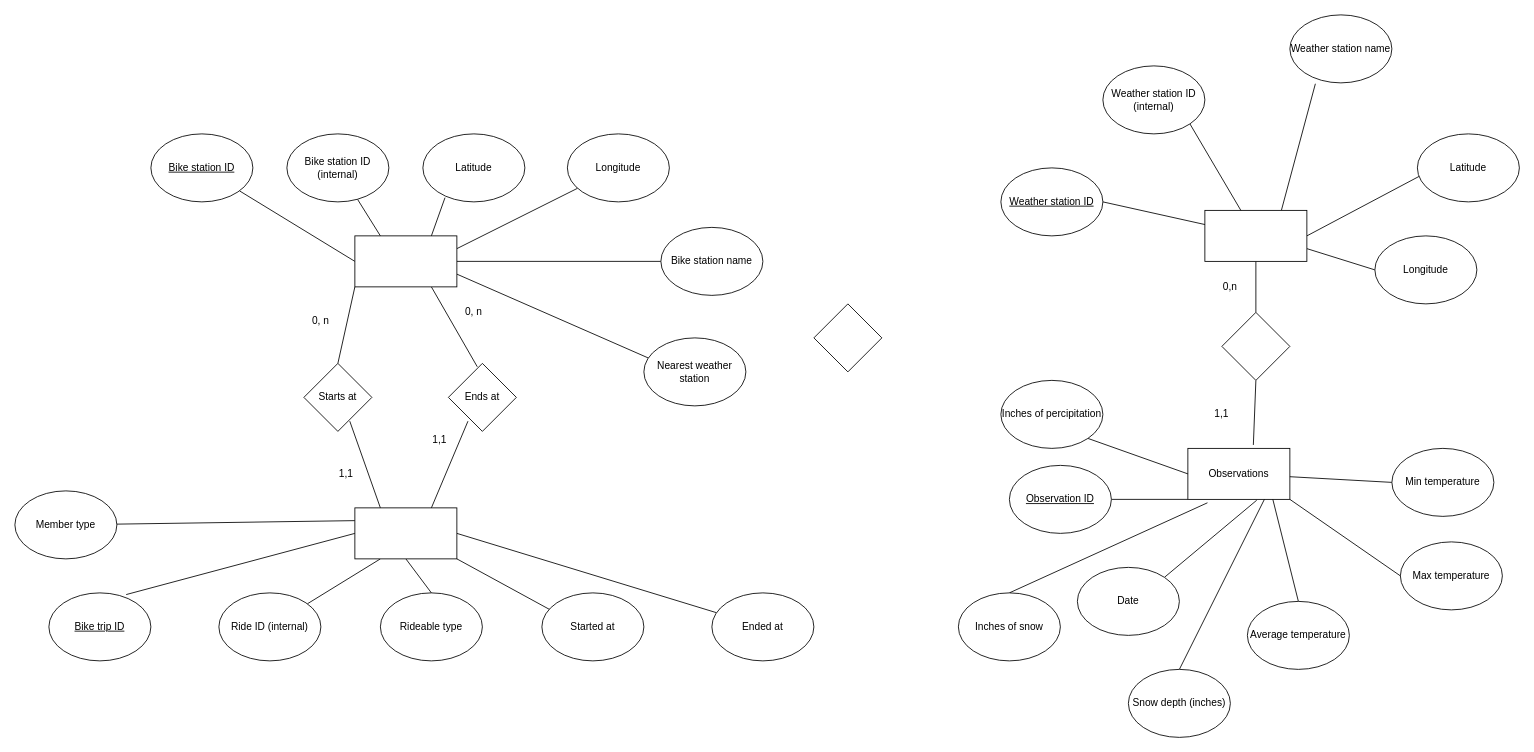
Some shapes in this 1534 by 752 pixel diagram are drawn without their labels. The centre of each missing label's shape, as x and y in pixels:
Bike station: (405,261)
Bike trips: (405,533)
Is nearest to: (847,337)
Recorded at: (1255,346)
Weather station: (1255,235)
